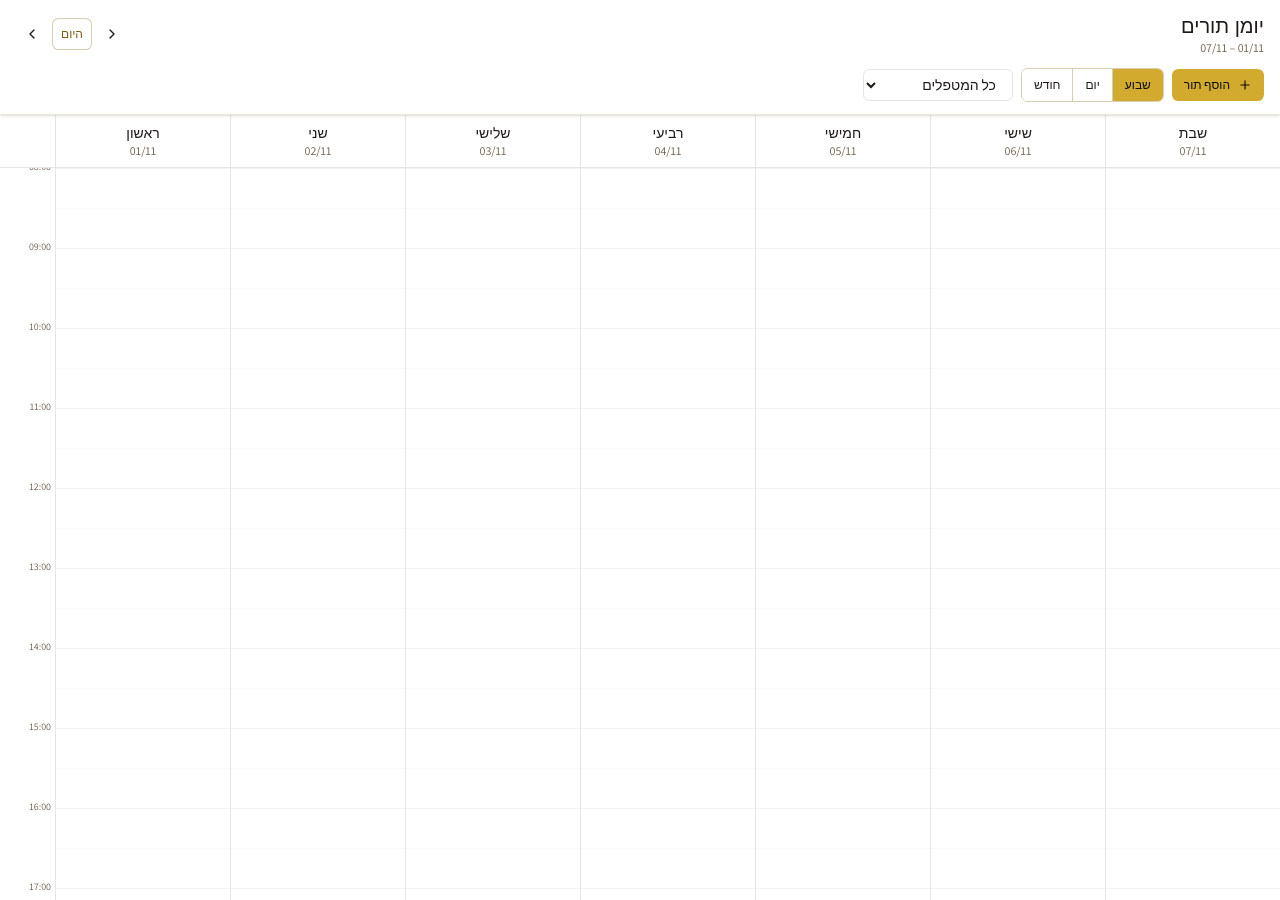
Test case: NewAppointmentDialog — auto-fill end time from treatment duration › ברירת המחדל: שעת התחלה 09:00, שעת סיום 10:00
The image size is (1280, 900).
Click the button with aria-label "פתח דיאלוג הוספת תור חדש": [1218, 85] box x1=1172 y1=69 x2=1264 y2=101
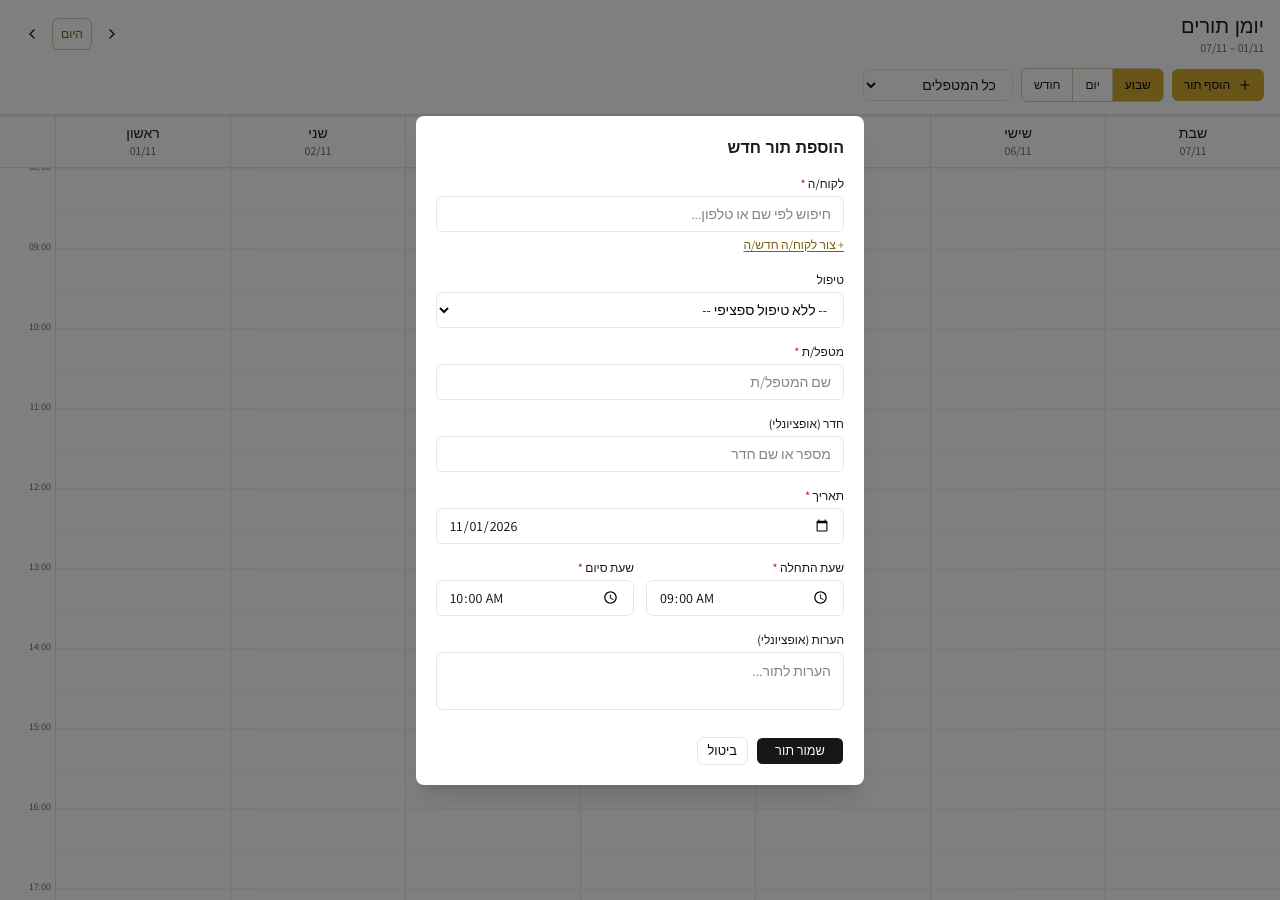
Expected: the time field labelled "שעת התחלה *" holds "09:00", x1=646 y1=580 x2=844 y2=616
Expected: the time field labelled "שעת סיום *" holds "10:00", x1=436 y1=580 x2=634 y2=616
